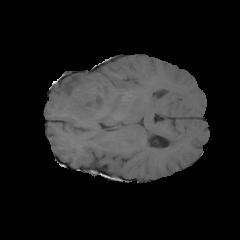glioma: (47, 72, 124, 129)
